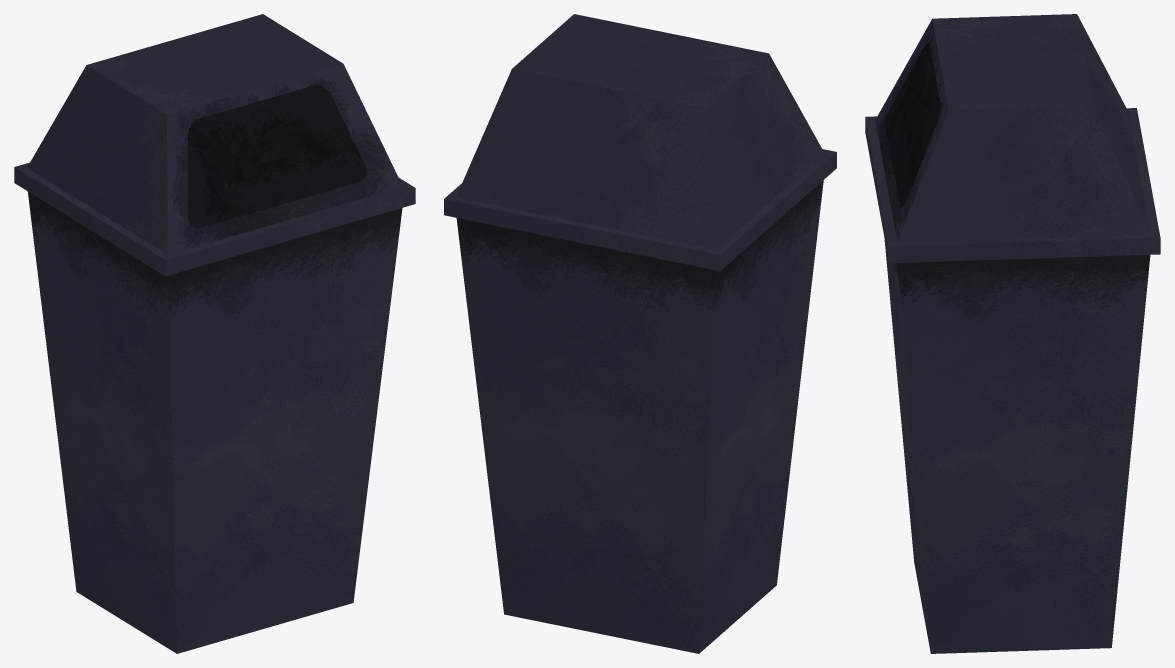
Rendered from psx_trash_can.glb.
The picture shows the model from 3 angles, left to right: view 1: azimuth 30°, elevation 25°; view 2: azimuth 150°, elevation 25°; view 3: azimuth 270°, elevation 25°; orthographic projection.
Visible parts, largest first — view 1: trash can_0; view 2: trash can_0; view 3: trash can_0.
Boxes of the visible parts, left/top/right/bottom form: trash can_0: left=14, top=14, right=415, bottom=653; trash can_0: left=444, top=14, right=836, bottom=653; trash can_0: left=865, top=14, right=1160, bottom=653.
Size of the model in its own units: 1.13 by 2.06 by 1.02.
1 material, 1 textured.
